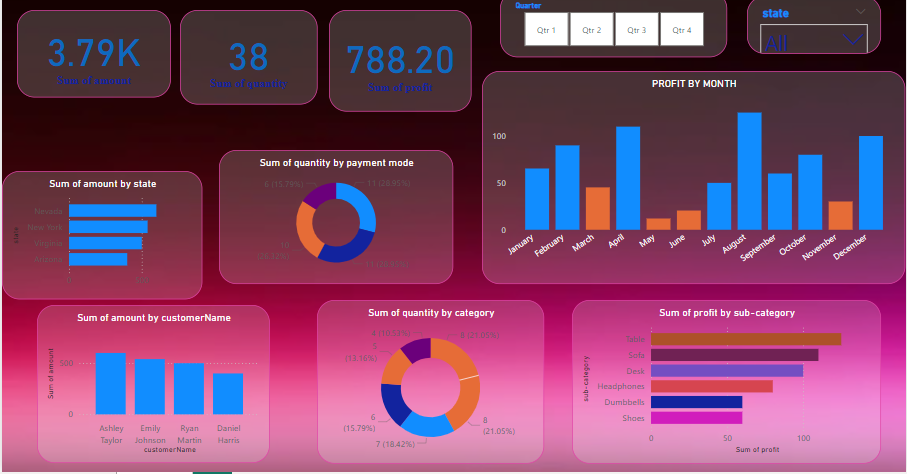

This screenshot's page, from the dashboard's own definition file:
{"tool":"powerbi","page":{"name":"Page 1","canvas":[1280,720],"ordinal":0},"visuals":[{"type":"textbox","box":[10.1,0,505.6,45.4],"z":0},{"type":"columnChart","title":"PROFIT BY MONTH","fields":{"Category":["Sheet1.order date.Variation.Date Hierarchy.Month"],"Y":["Sheet1 (2).profit"]},"box":[680,152,600,302],"z":1000},{"type":"barChart","fields":{"Category":["Sheet1 (2).sub-category"],"Y":["Sheet1 (2).profit"]},"box":[808,476,438,232],"z":2000},{"type":"donutChart","fields":{"Category":["Sheet1 (2).category"],"Y":["Sheet1 (2).quantity"]},"box":[446,476,322,232],"z":3000},{"type":"donutChart","fields":{"Category":["Sheet1 (2).payment mode"],"Y":["Sheet1 (2).quantity"]},"box":[308,264,332,190],"z":4000},{"type":"card","fields":{"Values":["Sheet1 (2).amount"]},"box":[21.8,65.5,218.4,124.3],"z":5000},{"type":"card","fields":{"Values":["Sheet1 (2).quantity"]},"box":[252,65.5,194.9,134.4],"z":6000},{"type":"card","fields":{"Values":["Sheet1 (2).profit"]},"box":[463.6,65.5,201.6,144.5],"z":7000},{"type":"barChart","fields":{"Y":["Sheet1 (2).amount"],"Category":["Sheet1.state"]},"box":[0,294,284,182],"z":8000},{"type":"columnChart","fields":{"Category":["Sheet1.customerName"],"Y":["Sheet1 (2).amount"]},"box":[50,484,330,224],"z":9000},{"type":"slicer","fields":{"Values":["Sheet1.order date.Variation.Date Hierarchy.Quarter"]},"box":[706,38,322,94],"z":10000},{"type":"slicer","fields":{"Values":["Sheet1.state"]},"box":[1056,46,190,82],"z":11000}]}

Visuals, with their boxes on the page's 1280x720 design canvas (x1, y1, x2, y2). These are canvas units, not pixel positions in the 907x474 screenshot, which may show the page scaled, cropped or inside an application window:
textbox: [x1=10, y1=0, x2=516, y2=45]
"PROFIT BY MONTH" columnChart: [x1=680, y1=152, x2=1280, y2=454]
barChart - Sheet1 (2).sub-category x Sheet1 (2).profit: [x1=808, y1=476, x2=1246, y2=708]
donutChart - Sheet1 (2).category x Sheet1 (2).quantity: [x1=446, y1=476, x2=768, y2=708]
donutChart - Sheet1 (2).payment mode x Sheet1 (2).quantity: [x1=308, y1=264, x2=640, y2=454]
card - Sheet1 (2).amount: [x1=22, y1=66, x2=240, y2=190]
card - Sheet1 (2).quantity: [x1=252, y1=66, x2=447, y2=200]
card - Sheet1 (2).profit: [x1=464, y1=66, x2=665, y2=210]
barChart - Sheet1 (2).amount x Sheet1.state: [x1=0, y1=294, x2=284, y2=476]
columnChart - Sheet1.customerName x Sheet1 (2).amount: [x1=50, y1=484, x2=380, y2=708]
slicer - Sheet1.order date.Variation.Date Hierarchy.Quarter: [x1=706, y1=38, x2=1028, y2=132]
slicer - Sheet1.state: [x1=1056, y1=46, x2=1246, y2=128]
